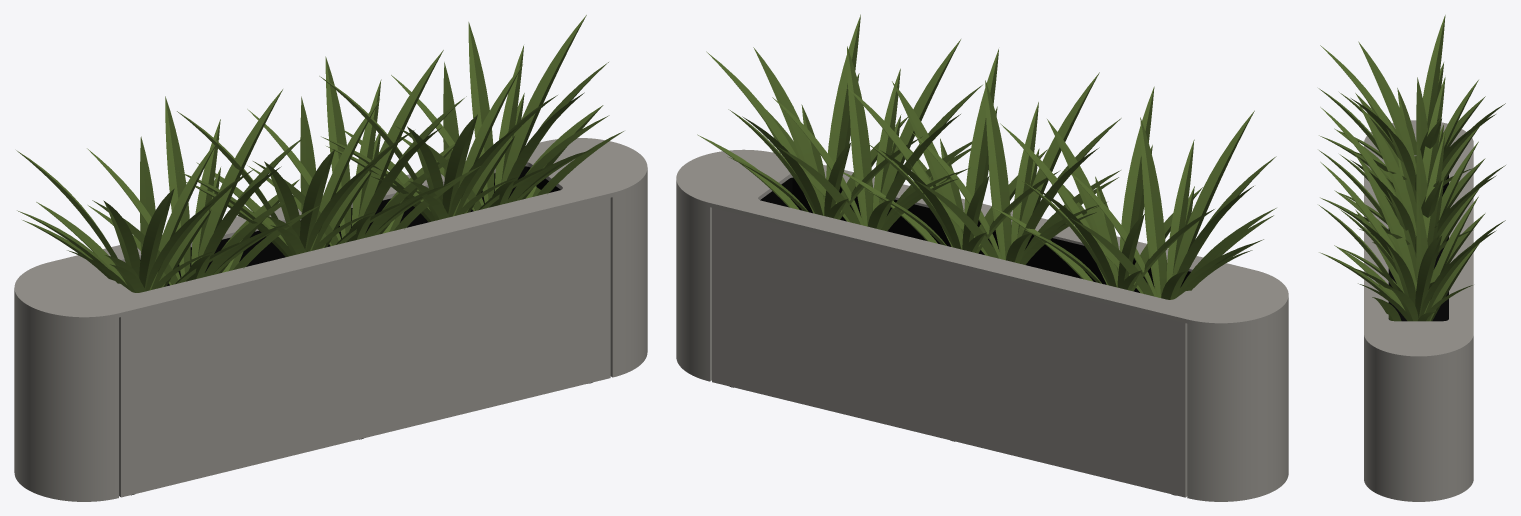
The model's file is PLANTERS - PLA 01.fbx.
3 renders of one model, left to right at view 1: azimuth 30°, elevation 25°; view 2: azimuth 150°, elevation 25°; view 3: azimuth 270°, elevation 25°, orthographic. The views are drawn at different scales.
Visible parts, largest first — view 1: Group55, Group2, Group4, Group6, Group_379_65, Group_379_1, Group_379_33, Group_379_67, Group_379_3, Group_379_35, BLOX_PLANT_BOX_120_1, Group_379_27 (+22 smaller); view 2: Group54, Group2, Group4, Group6, BLOX_PLANT_BOX_120_1, Group_379_29, Group_379_61, Group_379_93, Group_379_27, Group_379_68, Group_379_4, Group_379_36 (+23 smaller); view 3: Group6, Group2, Group_379_32, Group_379_64, Group_379_96, Group_379_30, Group_379_65, Group_379_94, Group_379_62, Group_379_66, Group_379_71, Group_379_70 (+38 smaller).
Boxes of the visible parts, <box> form: Group55: <box>119,197,610,497</box>; Group2: <box>14,138,647,321</box>; Group4: <box>14,293,118,501</box>; Group6: <box>610,172,647,377</box>; Group_379_65: <box>501,15,586,185</box>; Group_379_1: <box>197,89,282,259</box>; Group_379_33: <box>358,50,443,220</box>; Group_379_67: <box>468,22,494,202</box>; Group_379_3: <box>165,96,190,277</box>; Group_379_35: <box>325,56,351,237</box>; BLOX_PLANT_BOX_120_1: <box>140,166,560,285</box>; Group_379_27: <box>139,188,174,289</box>; Group54: <box>712,207,1187,497</box>; Group2: <box>676,149,1288,327</box>; Group4: <box>1187,301,1288,501</box>; Group6: <box>676,184,711,381</box>; BLOX_PLANT_BOX_120_1: <box>760,177,1190,292</box>; Group_379_29: <box>1140,117,1165,297</box>; Group_379_61: <box>985,80,1010,260</box>; Group_379_93: <box>847,46,872,226</box>; Group_379_27: <box>1172,110,1254,276</box>; Group_379_68: <box>826,14,860,180</box>; Group_379_4: <box>1119,86,1154,252</box>; Group_379_36: <box>964,49,998,214</box>; Group6: <box>1364,339,1473,501</box>; Group2: <box>1364,120,1473,359</box>; Group_379_32: <box>1358,41,1416,174</box>; Group_379_64: <box>1358,103,1416,236</box>; Group_379_96: <box>1358,158,1416,291</box>; Group_379_30: <box>1422,15,1445,130</box>; Group_379_65: <box>1415,236,1441,318</box>; Group_379_94: <box>1423,132,1445,246</box>; Group_379_62: <box>1423,77,1445,188</box>; Group_379_66: <box>1424,196,1478,313</box>; Group_379_71: <box>1416,194,1427,283</box>; Group_379_70: <box>1386,244,1415,305</box>.
Bounding box in the file's own units: 1500 × 765 × 509.
